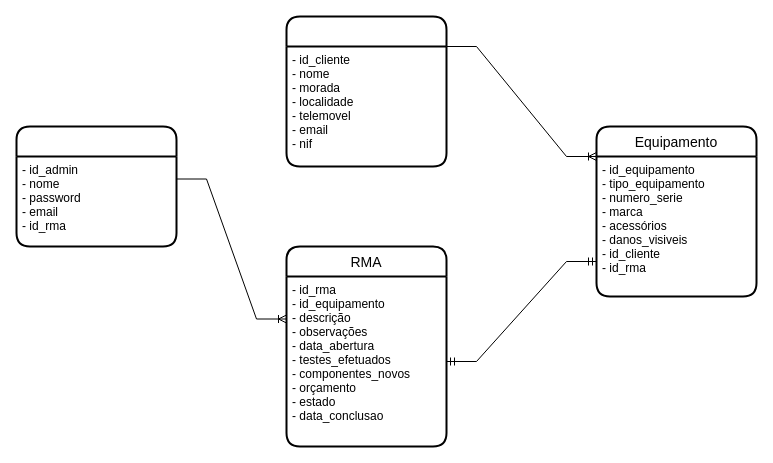
This 773x463 diagram has some shape labels left out. The box of each missing label's shape, as (x1, y1, x2, y2) in pixels:
Clientes: (285, 15, 447, 167)
Funcionário: (15, 125, 177, 247)
